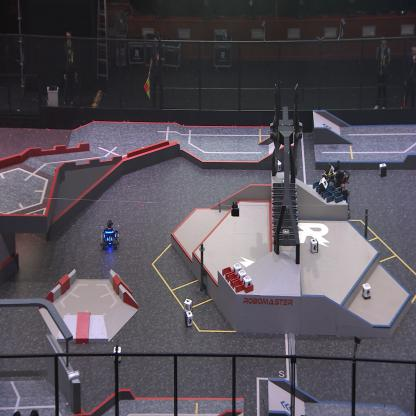car: (322, 167, 351, 219), (100, 219, 120, 251)
